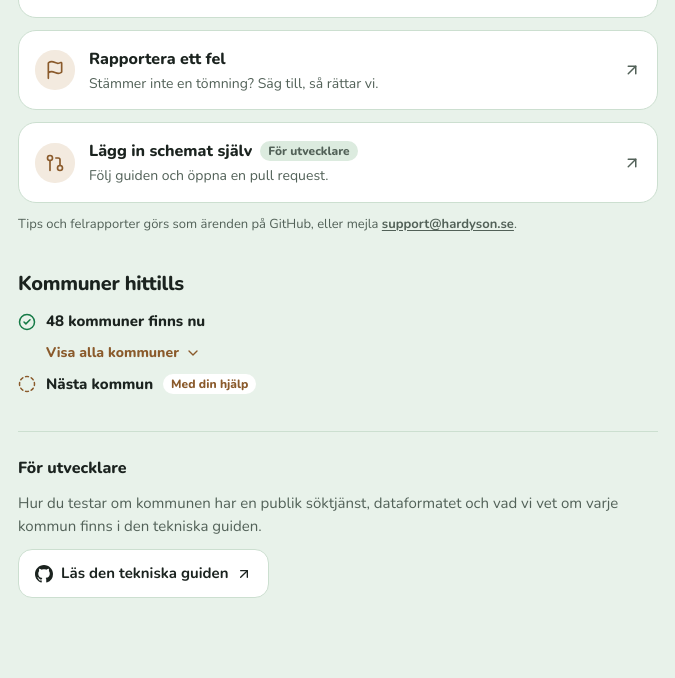
Test: BidraPage › har de tre sätten att bidra och kommunernas status
This screenshot has width=675, height=678.
(page scrolled)
Expected: the link "Rapportera ett fel" is shown, [18, 30, 658, 110]
Expected: the link "Lägg in schemat själv" is shown, [18, 122, 658, 203]
Click the button "Visa alla kommuner" at (109, 353), box [18, 343, 201, 363]
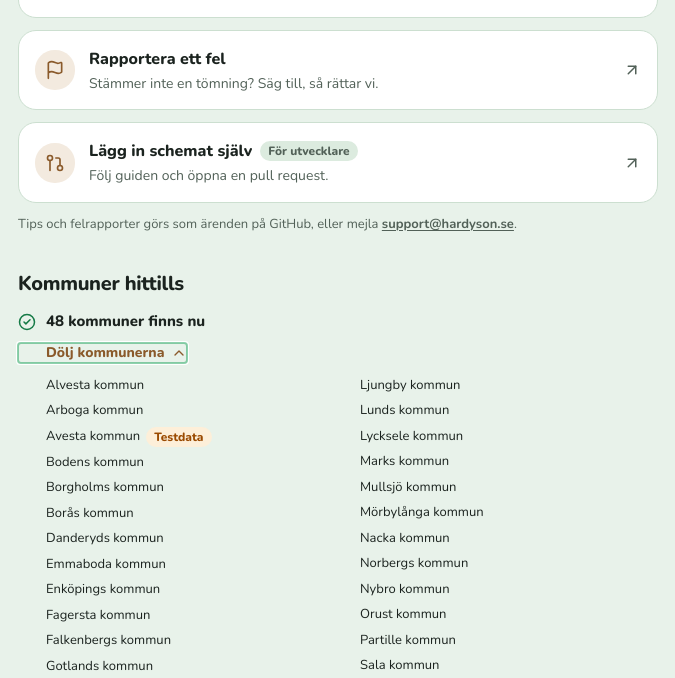
Now the text "Avesta kommun" is shown, box [46, 427, 140, 447]
